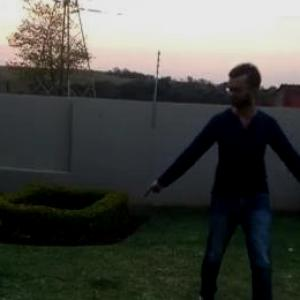land: (143, 66, 299, 299)
